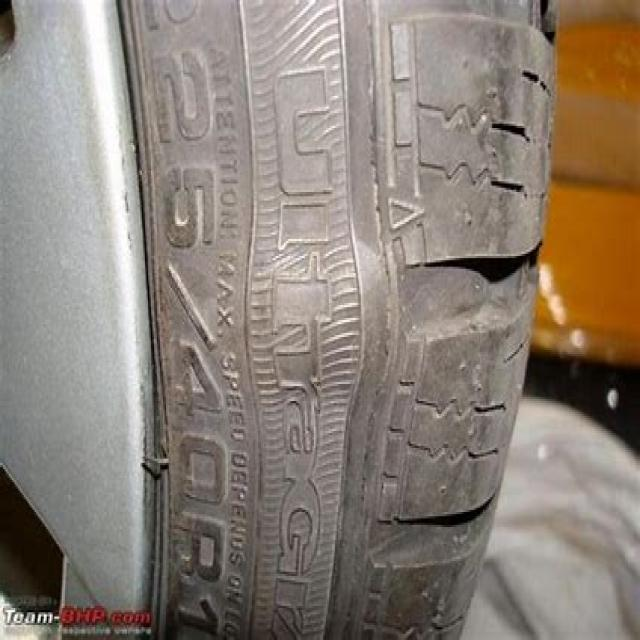Bulge: (214, 220, 410, 418)
